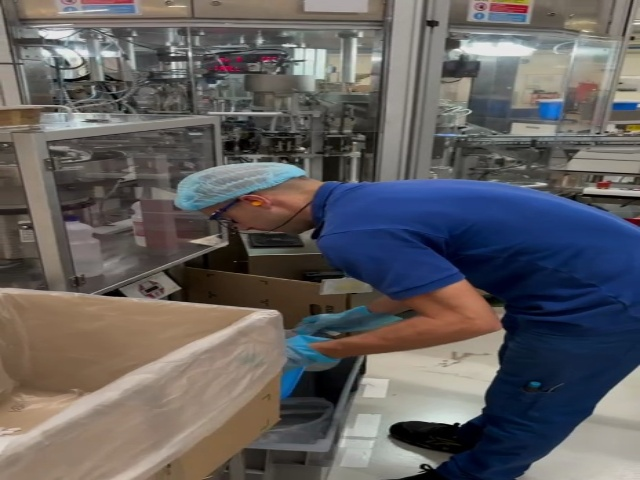Earplug: (237, 194, 273, 210)
Hairnet: (178, 158, 293, 211)
No_Helmet: (177, 157, 304, 216)
No_Vest: (320, 177, 640, 311)
Person: (177, 162, 640, 480)
Safety_Goggles: (201, 188, 256, 221)
